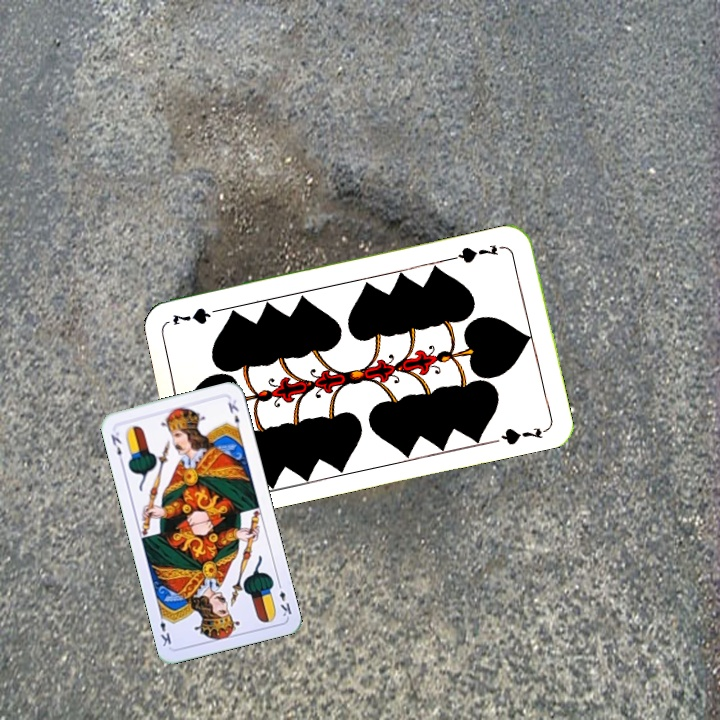EK: (274, 578, 294, 619), (107, 428, 126, 466)
G7: (450, 240, 501, 266)
